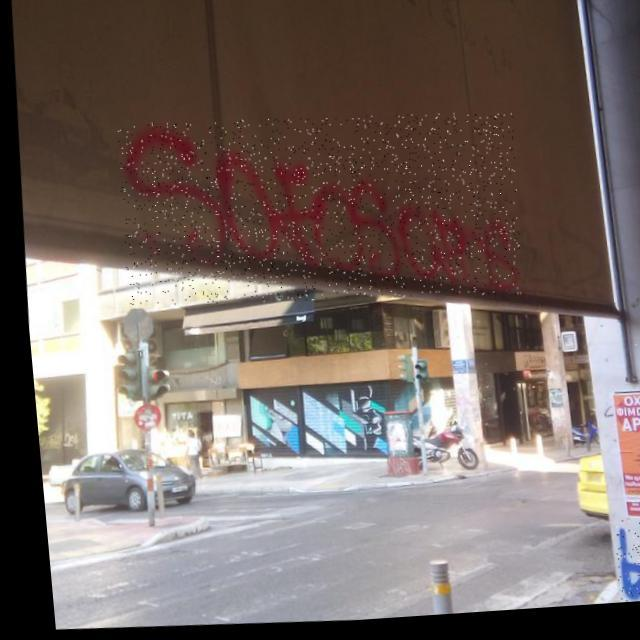-: (108, 104, 522, 321), (600, 525, 640, 611), (625, 338, 640, 384)
